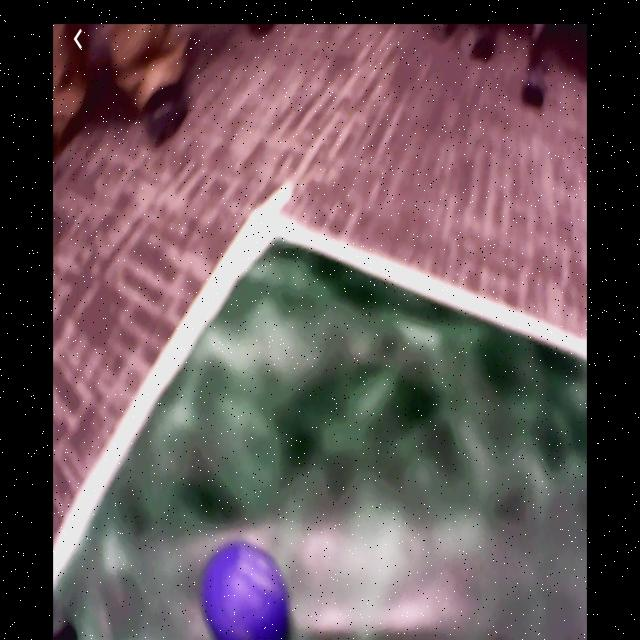ball: (204, 541, 288, 640)
